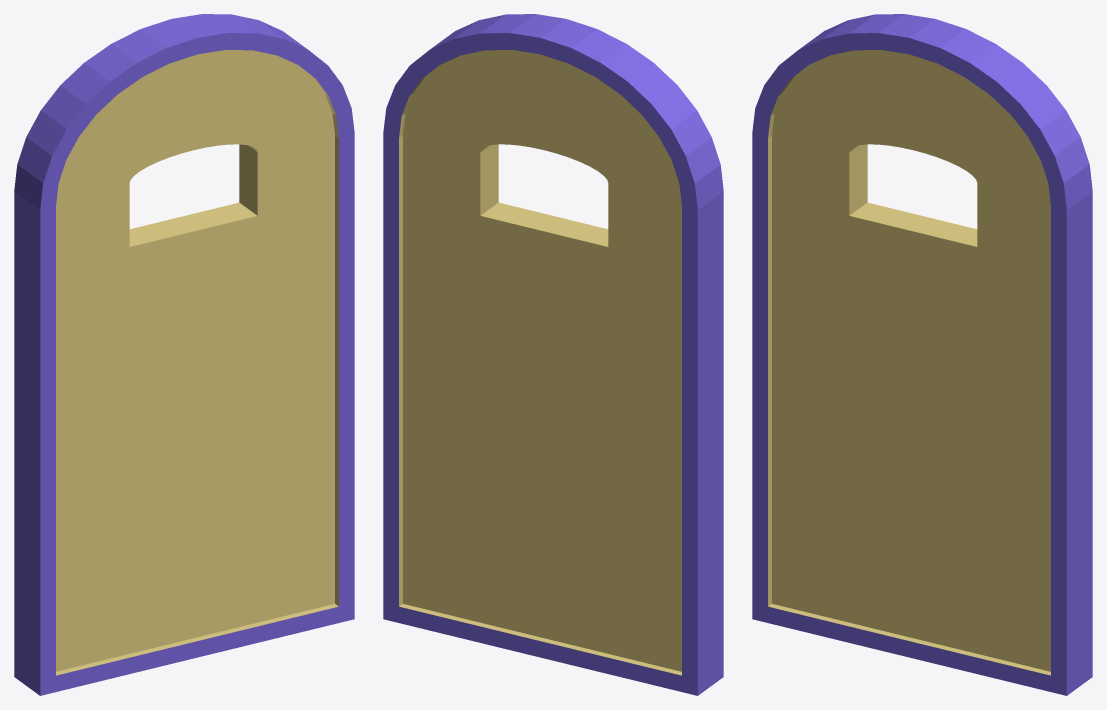
File: Door_Wood.fbx
The picture shows the model from 3 angles, left to right: view 1: azimuth 30°, elevation 25°; view 2: azimuth 150°, elevation 25°; view 3: azimuth 330°, elevation 25°; orthographic projection.
Parts seen in each view (by area): view 1: WoodDoor_Base; view 2: WoodDoor_Base; view 3: WoodDoor_Base.
Boxes of the visible parts, bbox=[...] form: WoodDoor_Base: bbox=[14, 14, 354, 695]; WoodDoor_Base: bbox=[383, 14, 723, 695]; WoodDoor_Base: bbox=[752, 14, 1092, 695].
Bounding box in the file's own units: 700 × 1318 × 100.
